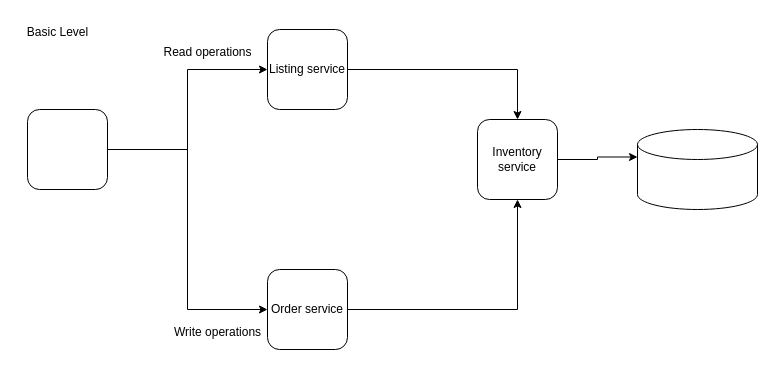
Image size: 775x367. Some labels were removed from this diagram. The shapes that lost their labels are listed below. From the top down, each one's centre as x and y in pixels, then its label:
At point (67, 149): "Browser".
At point (697, 169): "Inventory DB".
